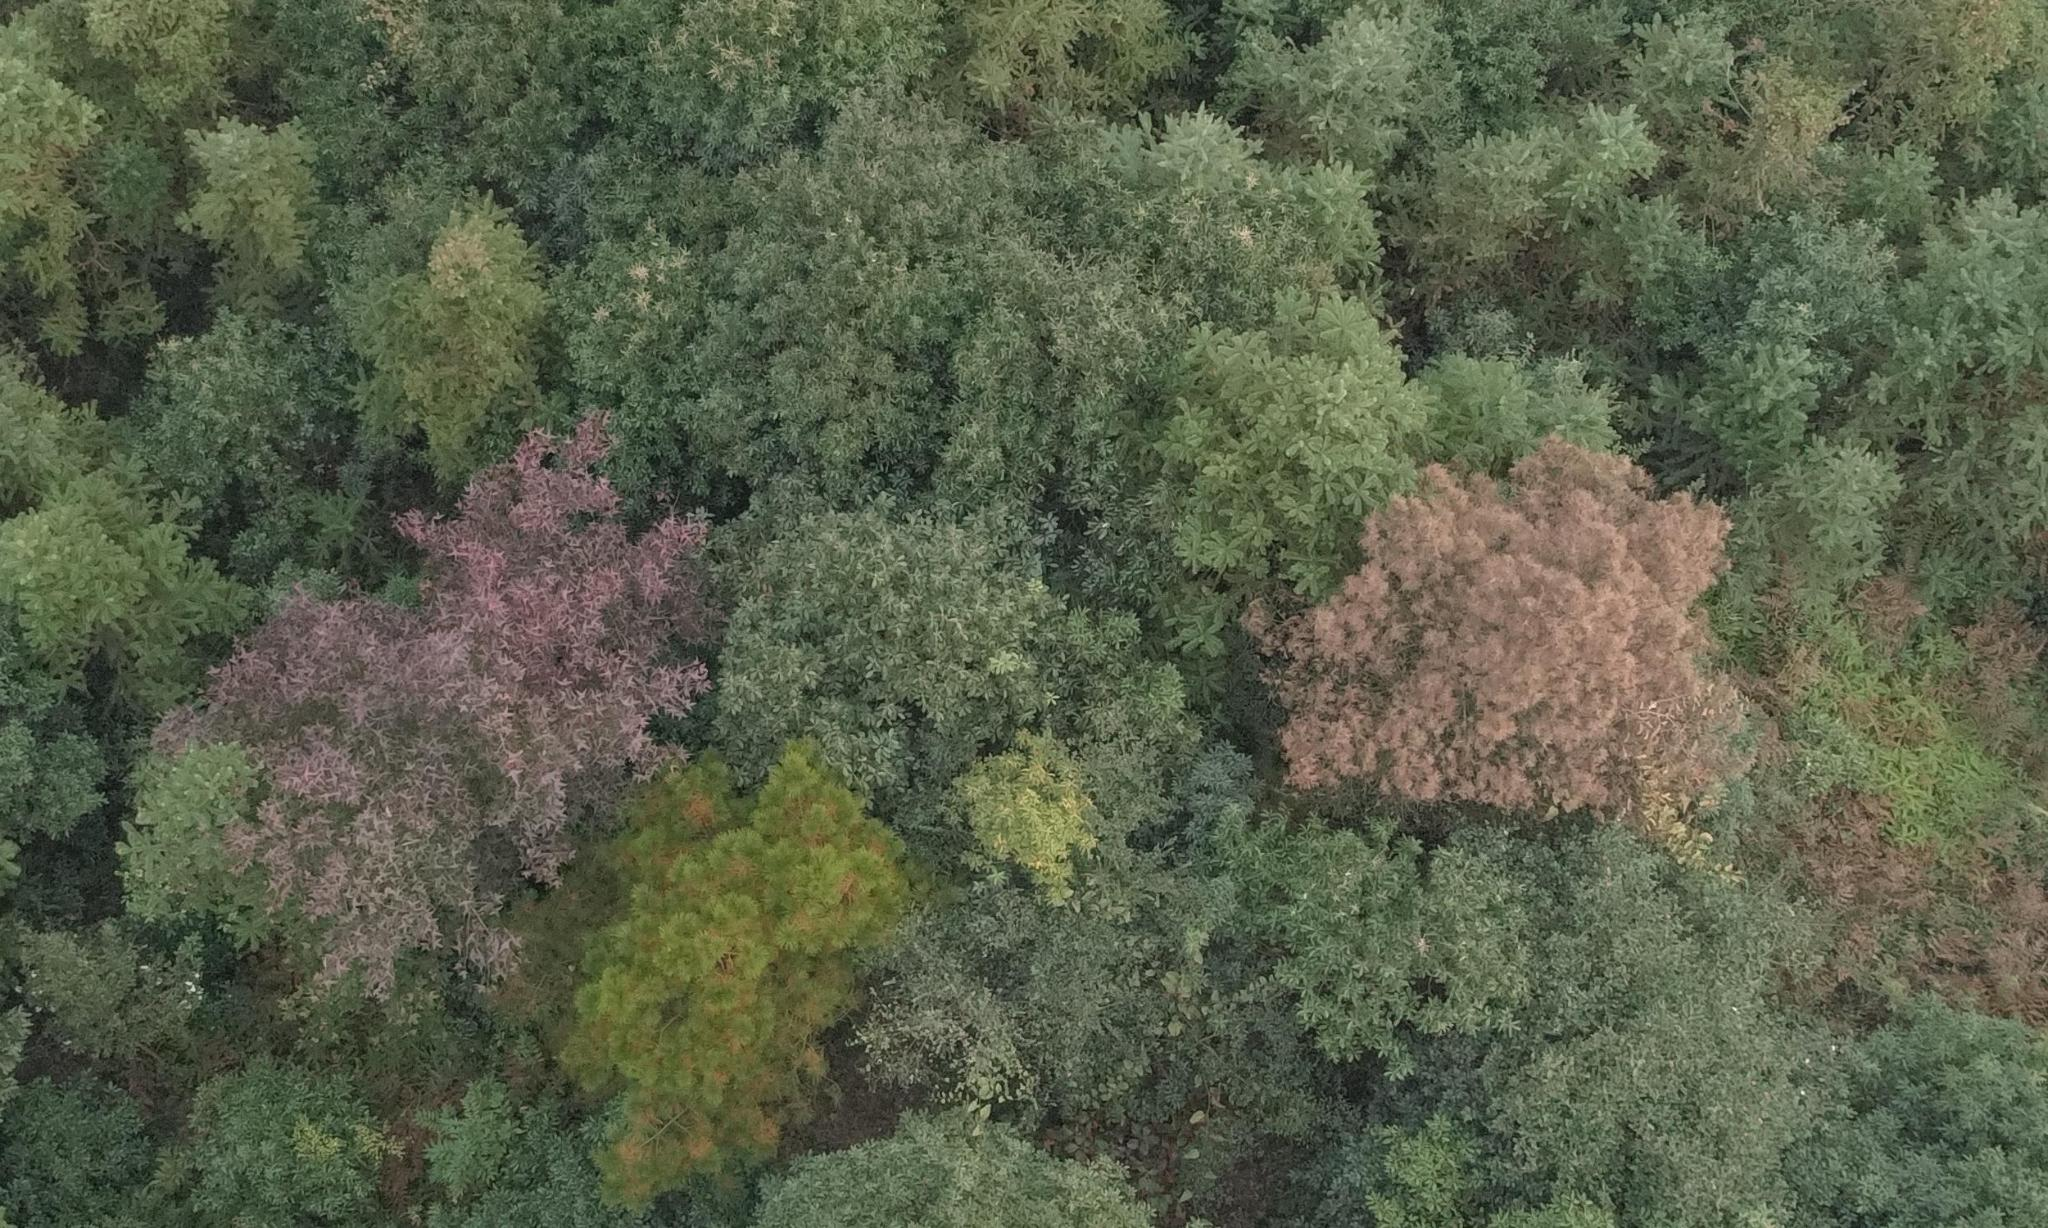heavy: (172, 437, 690, 958), (1251, 439, 1734, 846)
